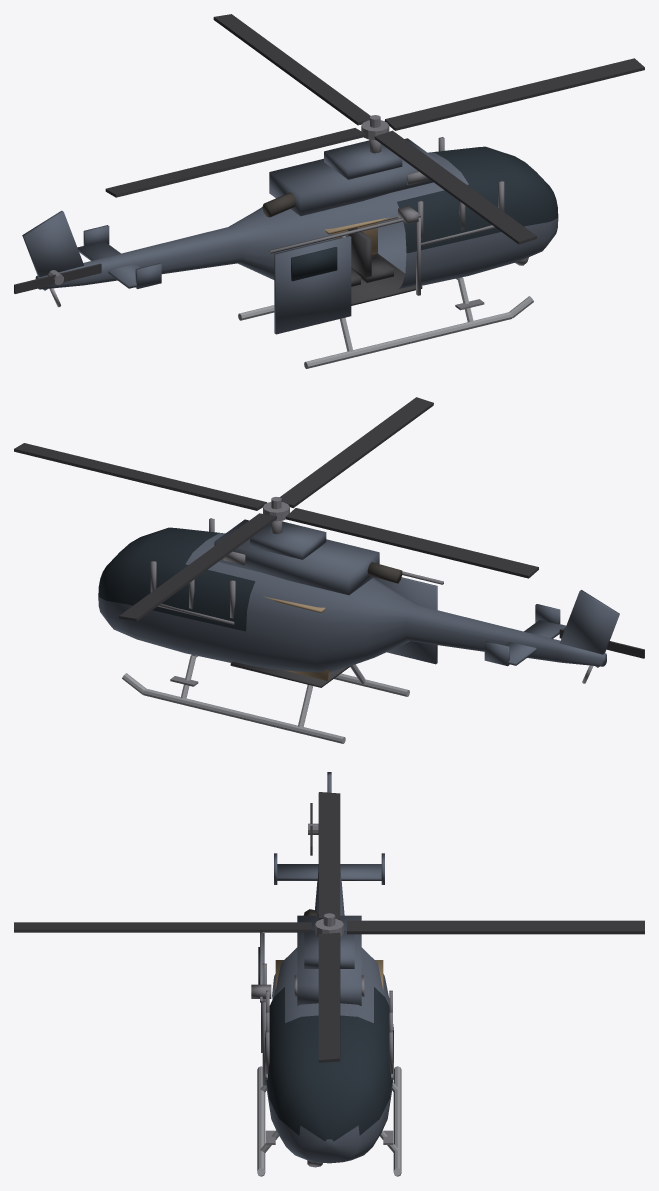
File: helicopter.glb
3 renders of one model, top to bottom at view 1: azimuth 30°, elevation 25°; view 2: azimuth 150°, elevation 25°; view 3: azimuth 270°, elevation 25°, orthographic. The views are drawn at different scales.
Visible parts, largest first — view 1: Hull, MainRotor, Skids, TailRotor; view 2: Hull, MainRotor, Skids; view 3: Hull, MainRotor, Skids.
Part boxes in pixels (left/top/right/bottom): Hull: left=22, top=137, right=558, bottom=334; MainRotor: left=105, top=14, right=644, bottom=244; Skids: left=238, top=277, right=533, bottom=368; TailRotor: left=14, top=263, right=101, bottom=293; Hull: left=98, top=518, right=619, bottom=687; MainRotor: left=14, top=397, right=538, bottom=621; Skids: left=122, top=654, right=409, bottom=743; Hull: left=251, top=772, right=393, bottom=1167; MainRotor: left=14, top=792, right=644, bottom=1062; Skids: left=257, top=1066, right=401, bottom=1176.
Bounding box in the file's own units: 10.54 × 3.22 × 8.79.
